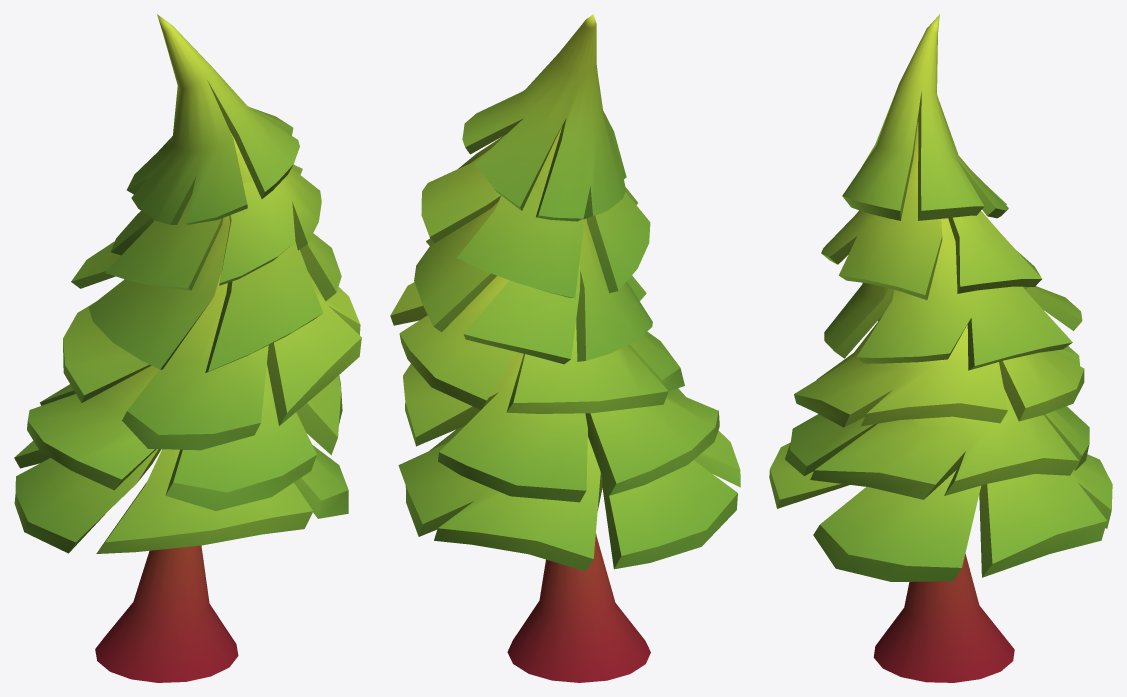
The model's file is Pine_big.fbx.
3 renders of one model, left to right at view 1: azimuth 30°, elevation 25°; view 2: azimuth 150°, elevation 25°; view 3: azimuth 270°, elevation 25°, orthographic.
Visible parts, largest first — view 1: Pine_Big; view 2: Pine_Big; view 3: Pine_Big.
Boxes of the visible parts, x1,y1,x2,y2 form: Pine_Big: (14, 14, 361, 682); Pine_Big: (390, 14, 740, 682); Pine_Big: (769, 14, 1112, 682).
Size of the model in its own units: 1.19 by 2.44 by 1.2.
Materials: 1 (1 with a texture image).
